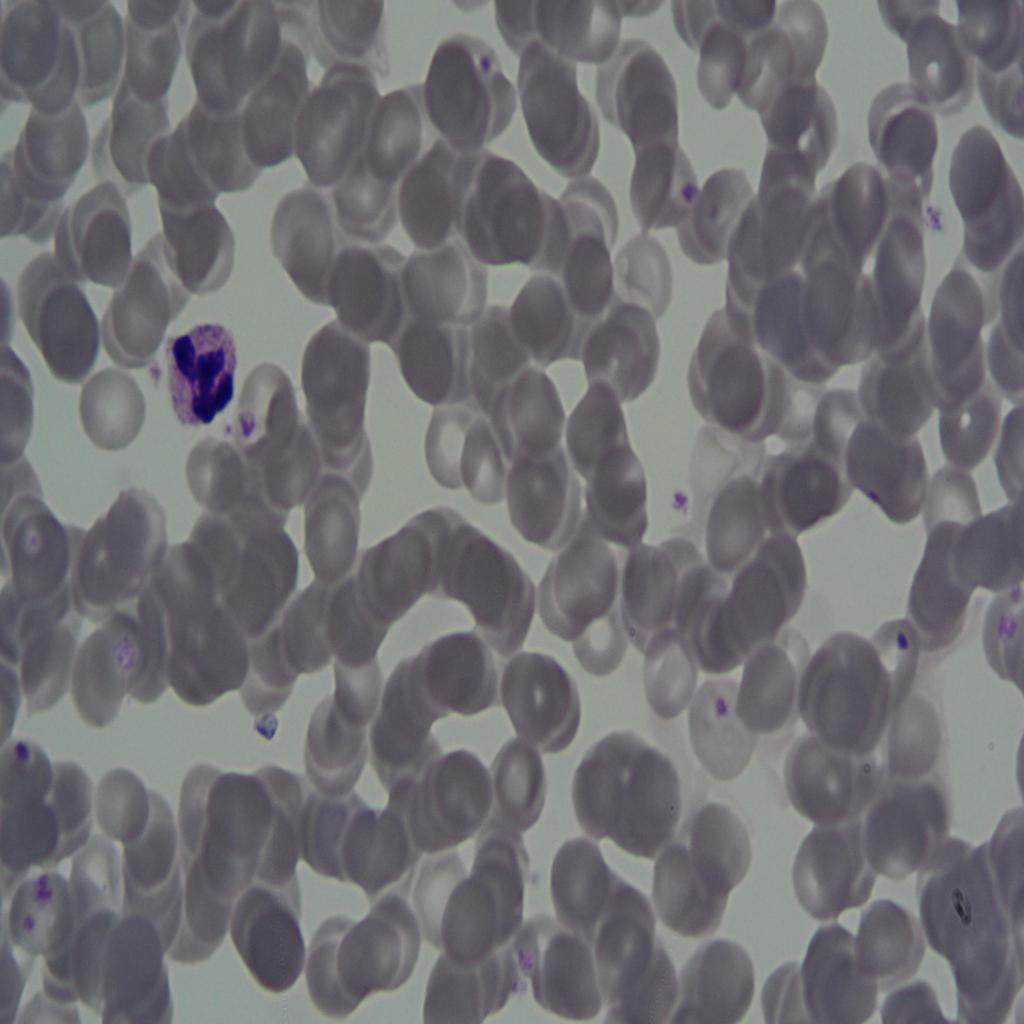Eosinofil: (152, 308, 244, 447)
Platelet: (244, 703, 282, 747), (920, 196, 954, 238), (30, 869, 64, 905), (708, 688, 735, 732), (12, 731, 39, 774), (675, 172, 700, 214), (888, 628, 913, 665), (663, 486, 689, 521), (20, 912, 42, 952), (473, 40, 493, 82)
